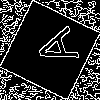A: (25, 25, 79, 72)
